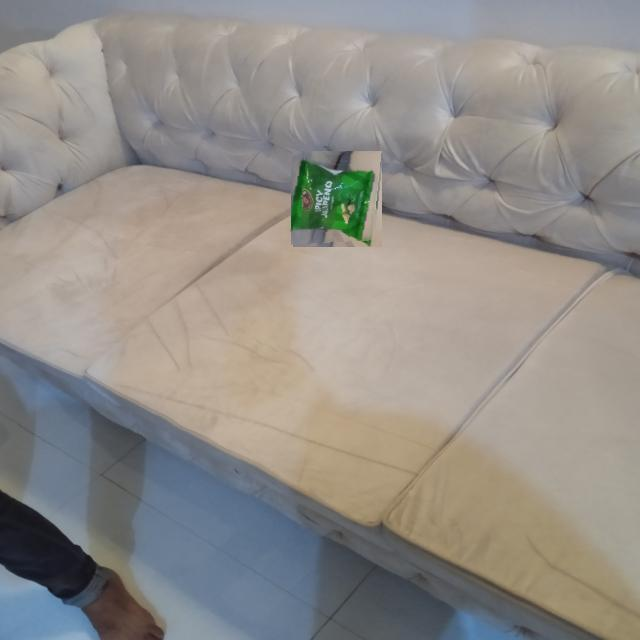Plastic: (291, 152, 384, 245)
